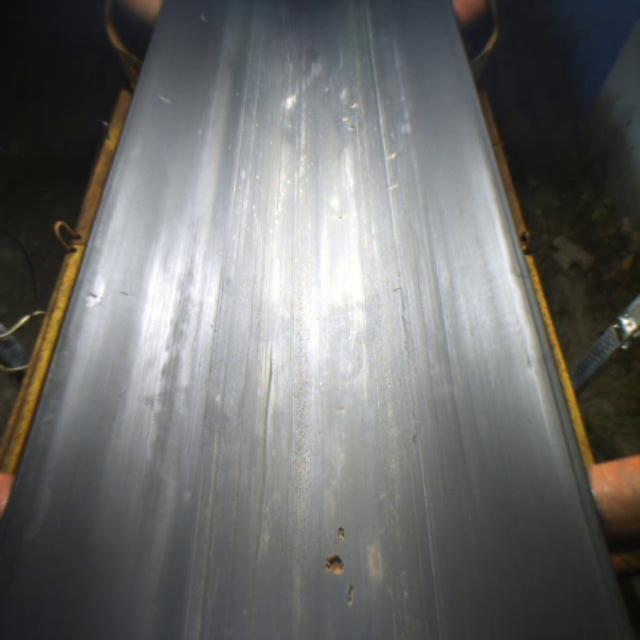Hole: (322, 552, 347, 576)
Puncture: (334, 526, 347, 544)
Tear: (346, 582, 356, 607)
